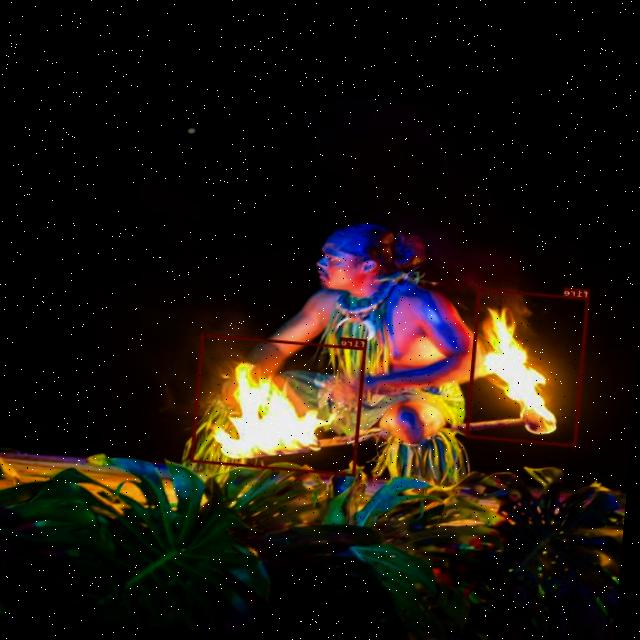fire: (190, 332, 367, 476), (464, 287, 590, 446)
